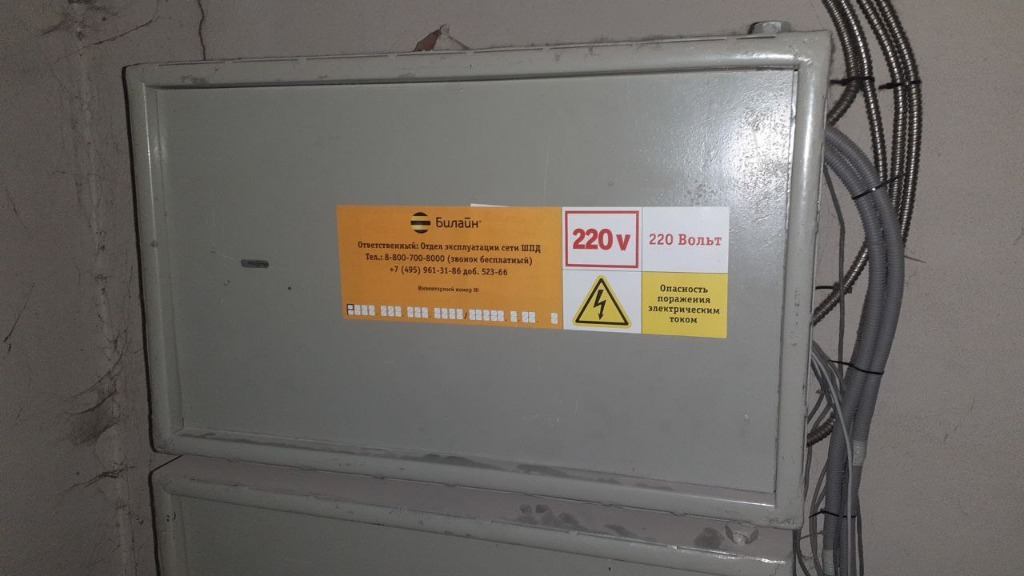e2-6u: (119, 28, 843, 529)
